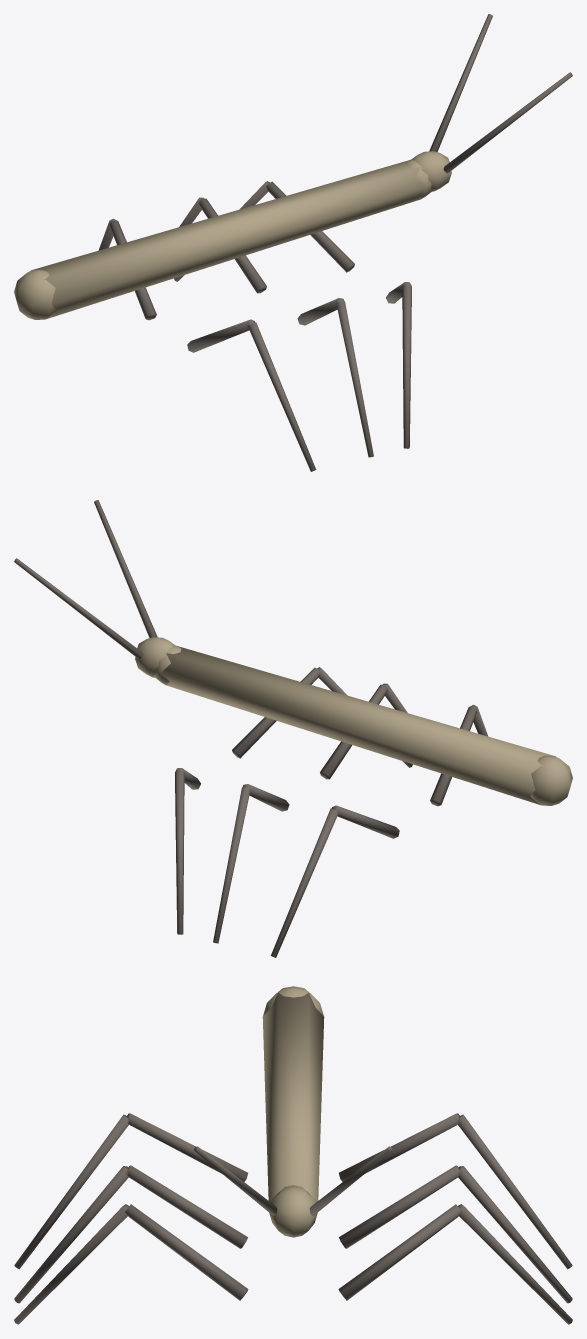
The model's file is giant-walking-stick.glb.
3 renders of one model, top to bottom at view 1: azimuth 30°, elevation 25°; view 2: azimuth 150°, elevation 25°; view 3: azimuth 270°, elevation 25°, orthographic. The views are drawn at different scales.
Parts seen in each view (by area): view 1: e; view 2: e; view 3: e.
Boxes of the visible parts, x1,y1,x2,y2 form: e: [14, 14, 572, 471]; e: [14, 500, 572, 957]; e: [14, 986, 572, 1324].
Size of the model in its own units: 0.6982 by 0.3413 by 0.546.
